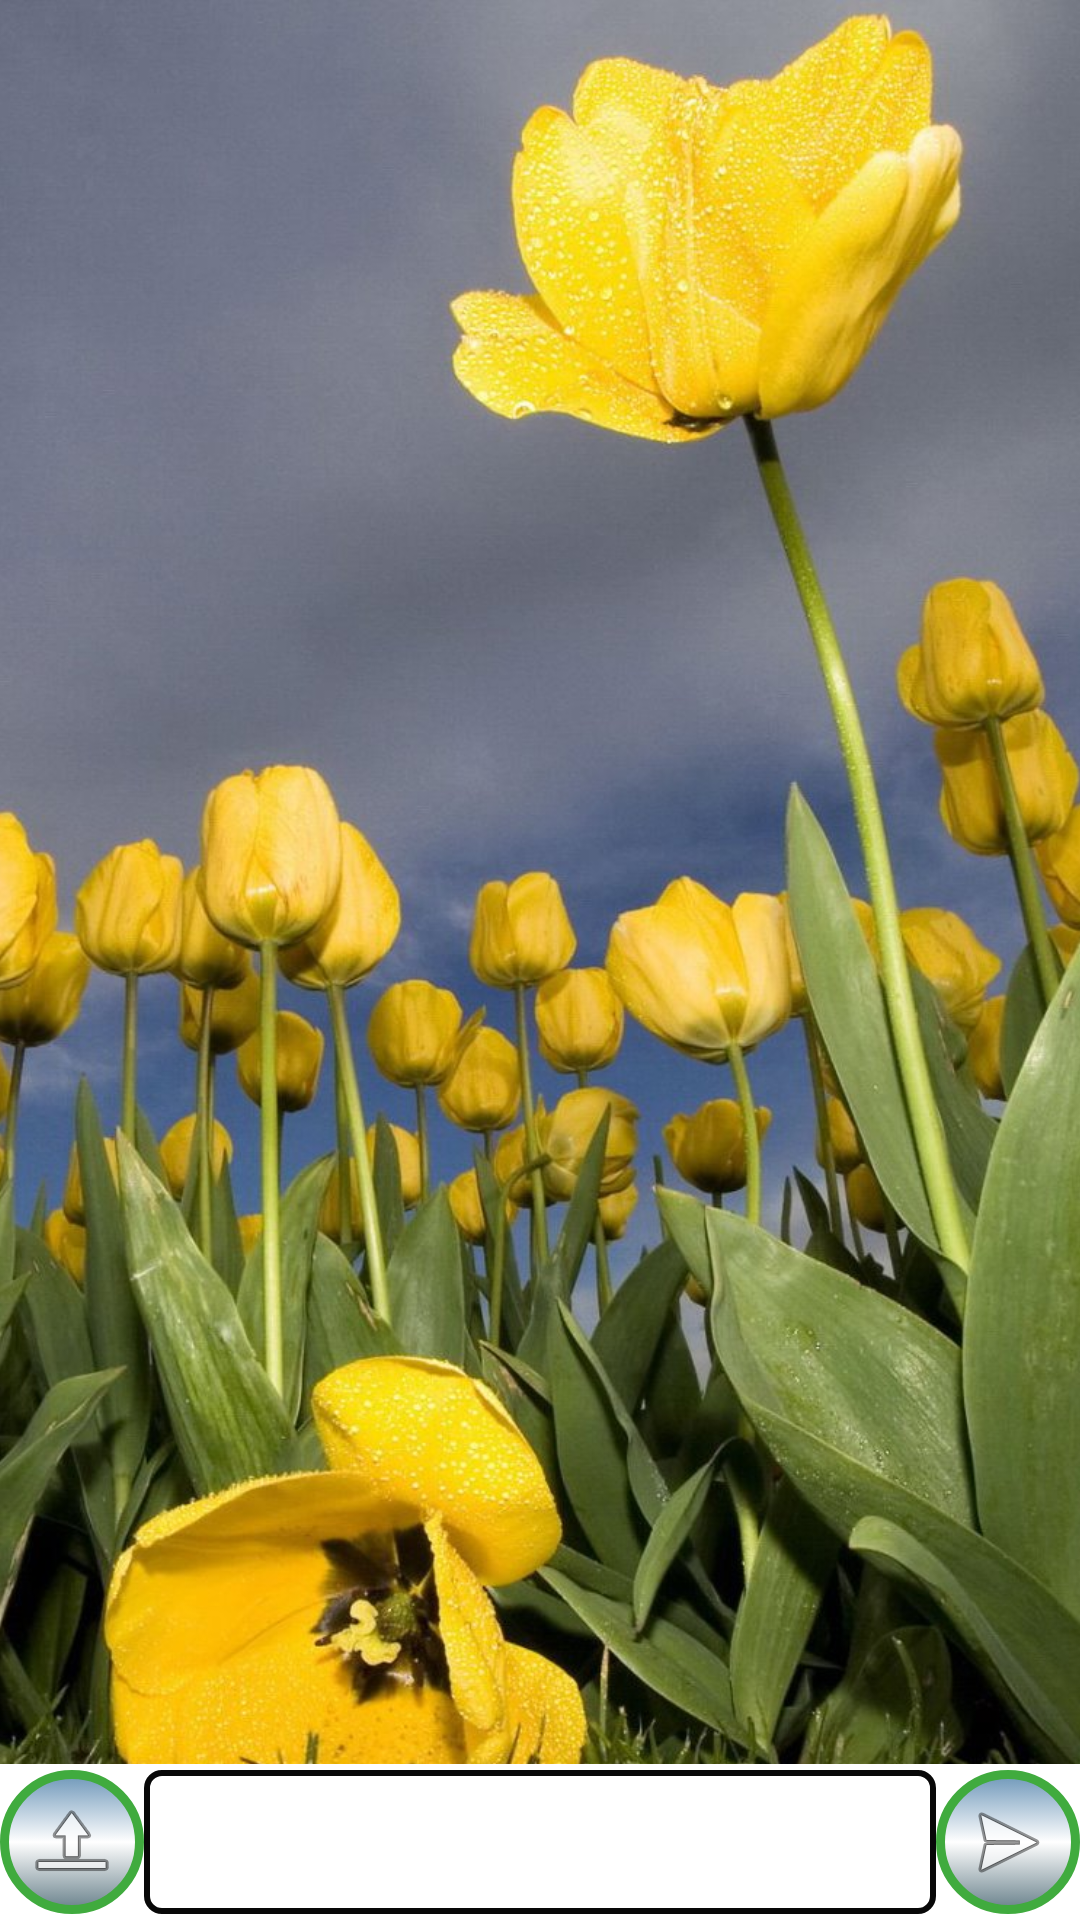

Icons on this 1080px×1920px Android screen, each with its box as (x1, y1, x2, y2):
send: (936, 1770, 1080, 1914)
upload: (0, 1770, 144, 1914)
